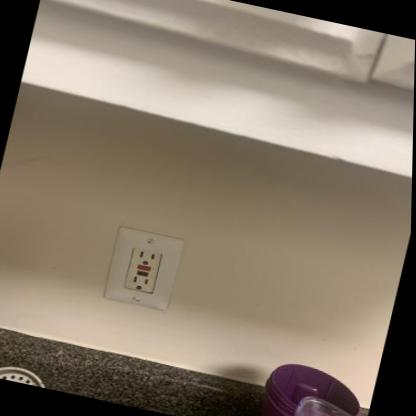OUTLET: (101, 224, 184, 310)
